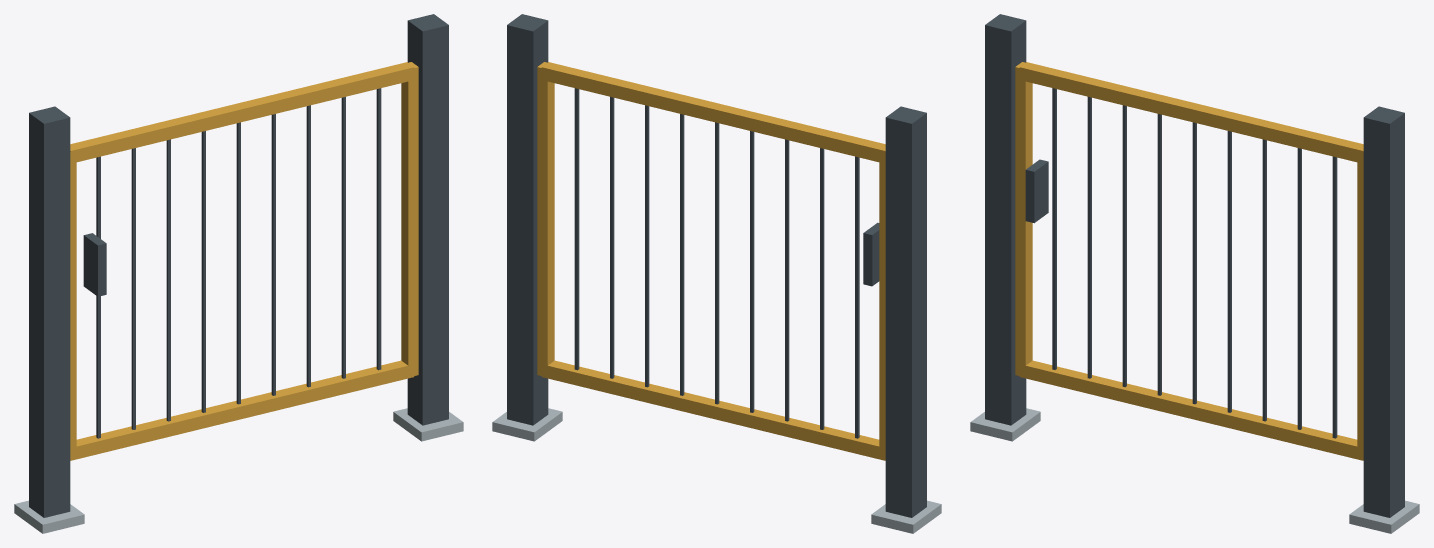
Rendered from cad-jl1000y.glb.
The picture shows the model from 3 angles, left to right: view 1: azimuth 30°, elevation 25°; view 2: azimuth 150°, elevation 25°; view 3: azimuth 330°, elevation 25°; orthographic projection.
Visible parts, largest first — view 1: cad-jl1000y_graphite, cad-jl1000y_gate_frame, cad-jl1000y_galvanized_steel; view 2: cad-jl1000y_graphite, cad-jl1000y_gate_frame, cad-jl1000y_galvanized_steel; view 3: cad-jl1000y_graphite, cad-jl1000y_gate_frame, cad-jl1000y_galvanized_steel.
Part boxes in pixels (<box>): cad-jl1000y_graphite: <box>29,14,448,517</box>; cad-jl1000y_gate_frame: <box>70,62,418,460</box>; cad-jl1000y_galvanized_steel: <box>14,408,463,533</box>; cad-jl1000y_graphite: <box>507,14,926,517</box>; cad-jl1000y_gate_frame: <box>537,62,885,460</box>; cad-jl1000y_galvanized_steel: <box>492,408,941,533</box>; cad-jl1000y_graphite: <box>985,14,1404,517</box>; cad-jl1000y_gate_frame: <box>1015,62,1363,460</box>; cad-jl1000y_galvanized_steel: <box>970,408,1419,533</box>.
Bounding box in the file's own units: 1.2 × 1.1 × 0.14.
